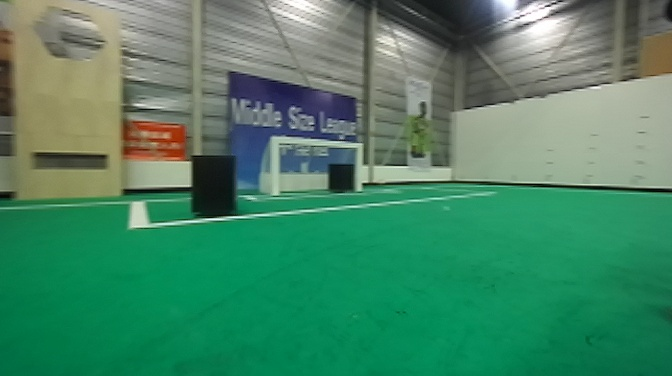goalpost: (267, 135, 283, 195), (356, 138, 364, 192)
